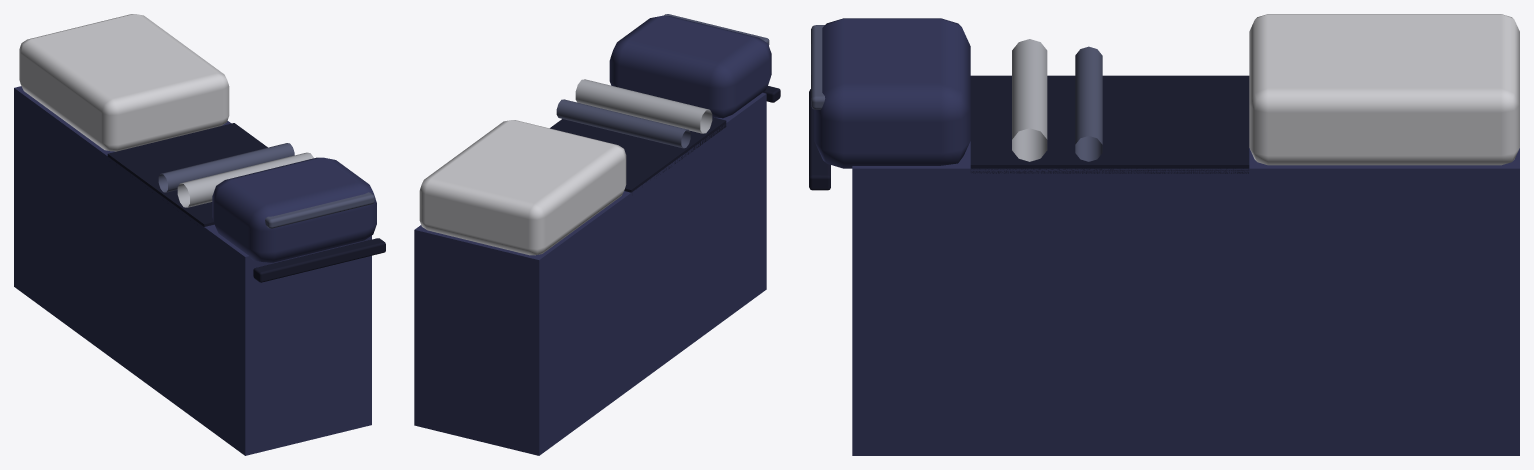
File: int.rimliner.v0.w0.25.glb
The picture shows the model from 3 angles, left to right: view 1: azimuth 30°, elevation 25°; view 2: azimuth 150°, elevation 25°; view 3: azimuth 270°, elevation 25°; orthographic projection. The views are drawn at different scales.
Visible parts, largest first — view 1: int.rimliner.v0.w0.25; view 2: int.rimliner.v0.w0.25; view 3: int.rimliner.v0.w0.25.
Part boxes in pixels (x1,y1,x2,y2): int.rimliner.v0.w0.25: (14, 14, 385, 455); int.rimliner.v0.w0.25: (414, 14, 780, 455); int.rimliner.v0.w0.25: (809, 14, 1519, 455).
Size of the model in its own units: 0.25 by 0.47 by 0.841.
